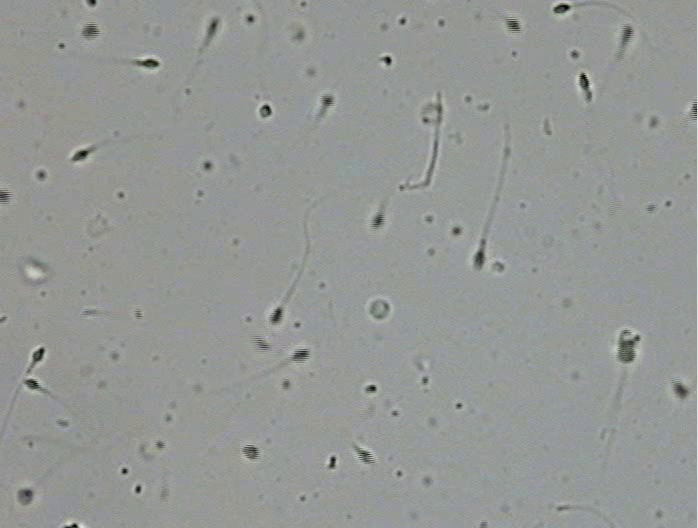Impurity: (368, 299, 389, 319)
S: (617, 329, 636, 363), (80, 22, 100, 40), (355, 447, 376, 464), (620, 23, 633, 45), (291, 348, 310, 363), (252, 335, 269, 351), (243, 444, 260, 460), (673, 382, 689, 399), (505, 17, 521, 33), (473, 249, 485, 269), (269, 307, 283, 324), (71, 149, 88, 162), (578, 72, 590, 90), (18, 490, 33, 504), (320, 93, 335, 107), (371, 213, 384, 229), (23, 379, 41, 390), (32, 347, 45, 361), (553, 3, 571, 13), (1, 188, 12, 204), (140, 59, 159, 68), (260, 104, 272, 118), (208, 18, 217, 35), (691, 98, 697, 122), (87, 1, 97, 8)
